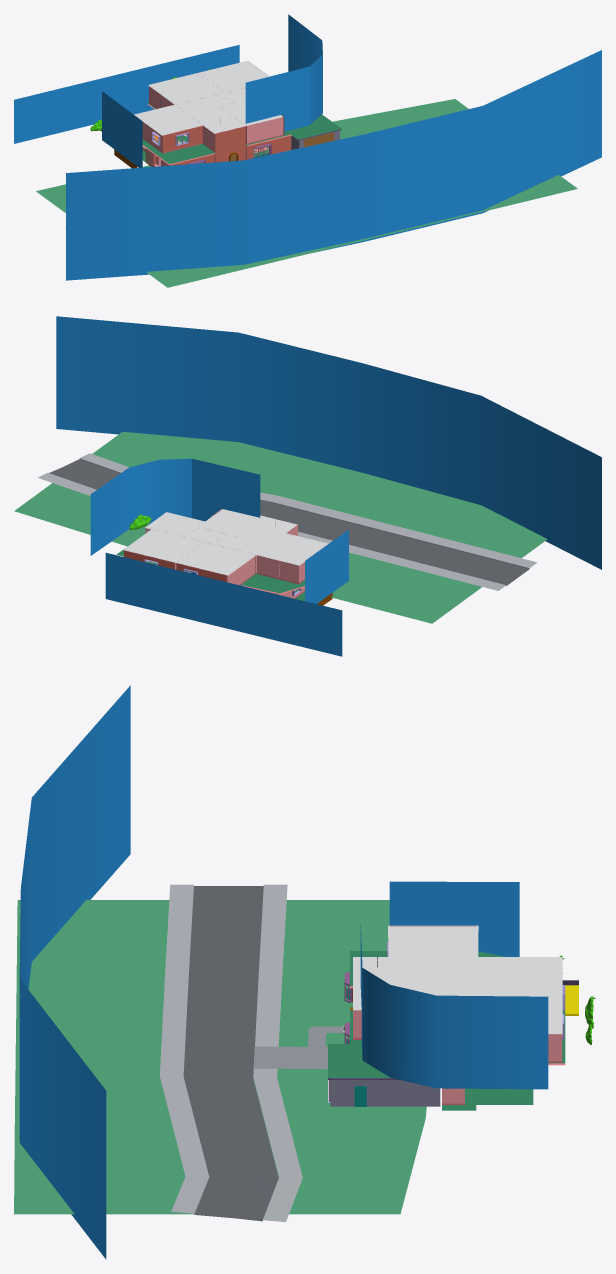
The model's file is simpsons_family_house__full_interior_opt.glb.
3 renders of one model, top to bottom at view 1: azimuth 30°, elevation 25°; view 2: azimuth 150°, elevation 25°; view 3: azimuth 270°, elevation 25°, orthographic. The views are drawn at different scales.
Parts seen in each view (by area): view 1: Interior_simpsons_palette_0; view 2: Interior_simpsons_palette_0; view 3: Interior_simpsons_palette_0.
Part boxes in pixels (<box>): Interior_simpsons_palette_0: <box>14,14,601,287</box>; Interior_simpsons_palette_0: <box>14,316,601,656</box>; Interior_simpsons_palette_0: <box>14,685,595,1259</box>.
Bounding box in the file's own units: 131 × 25.44 × 80.15.
Materials: 39 (39 with a texture image).
